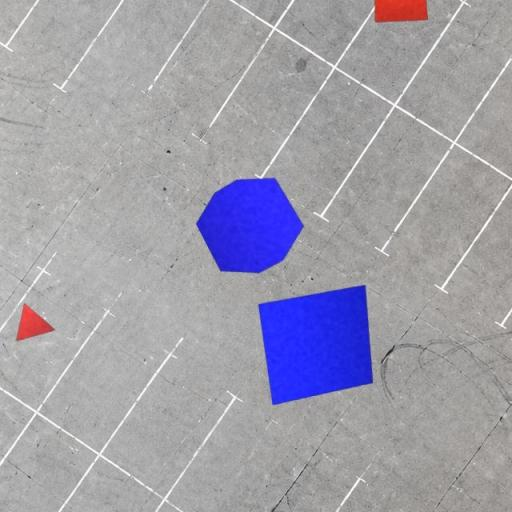BLUE_SQUARE: (258, 284, 374, 406)
